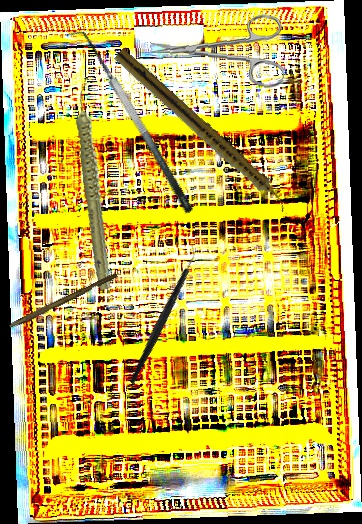Chopper: (89, 242, 235, 386)
Handpiece: (110, 47, 294, 215), (53, 81, 137, 291)
Iris Scissors: (148, 8, 287, 89)
Scalpel Handle: (8, 270, 119, 332)
Spatula Surgical: (65, 20, 195, 224)
